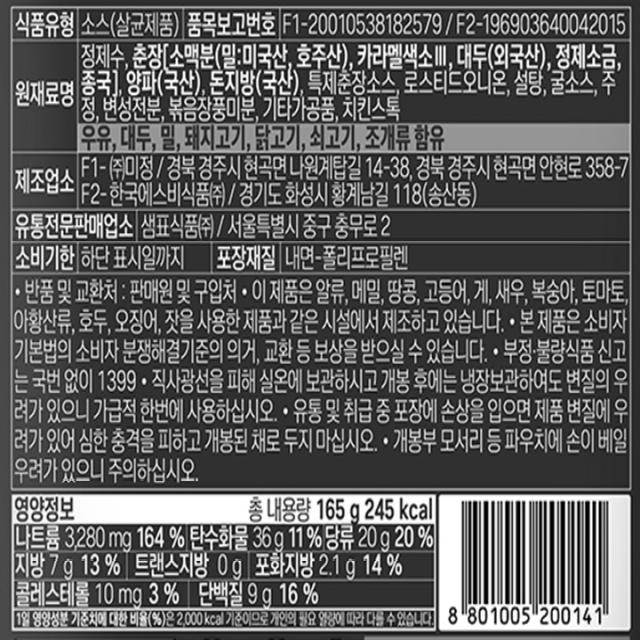Nutrition Label: (5, 487, 441, 640)
